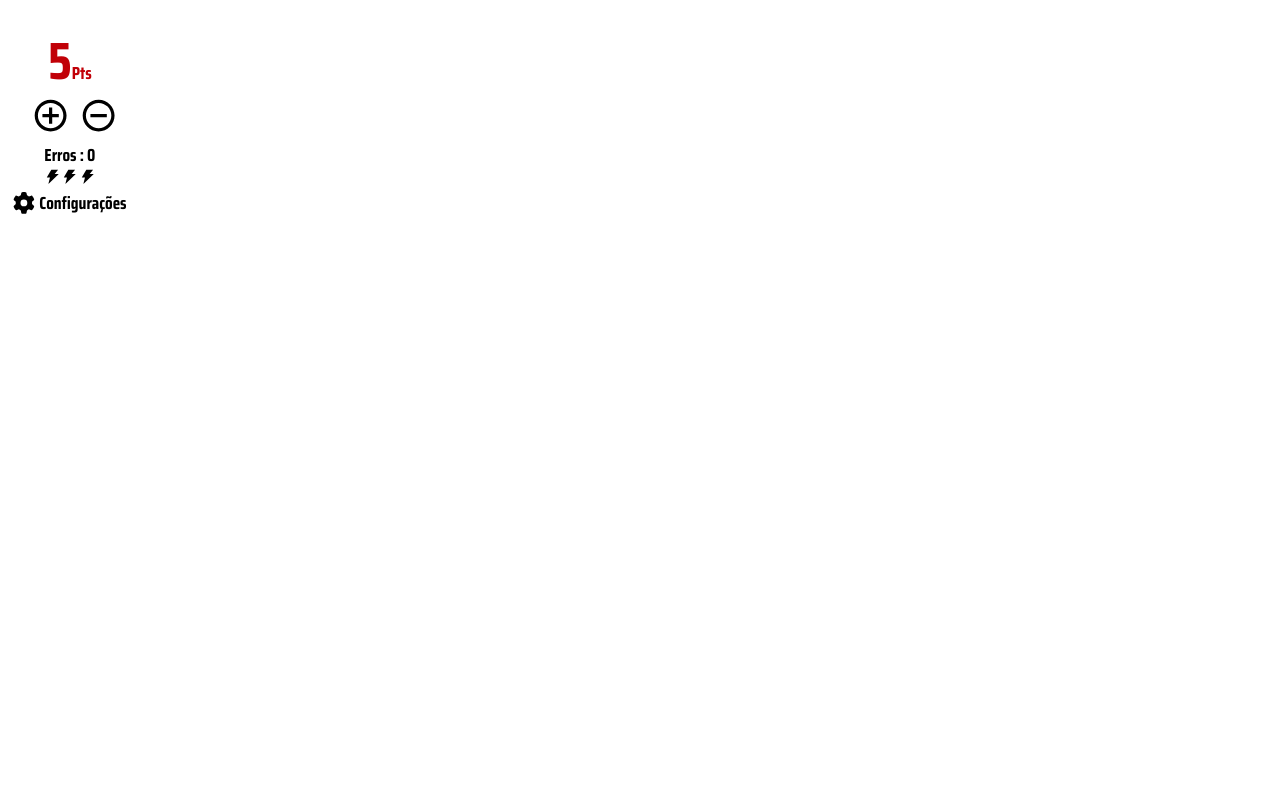
Test case: CountCard Config › deve exibir texto Ruim quando comportamento = 2
The image size is (1280, 800).
What coordinates should you click on to do the following:
click the text "Configurações"
I would click on:
 (70, 203)
Its box is [13,189,127,217].
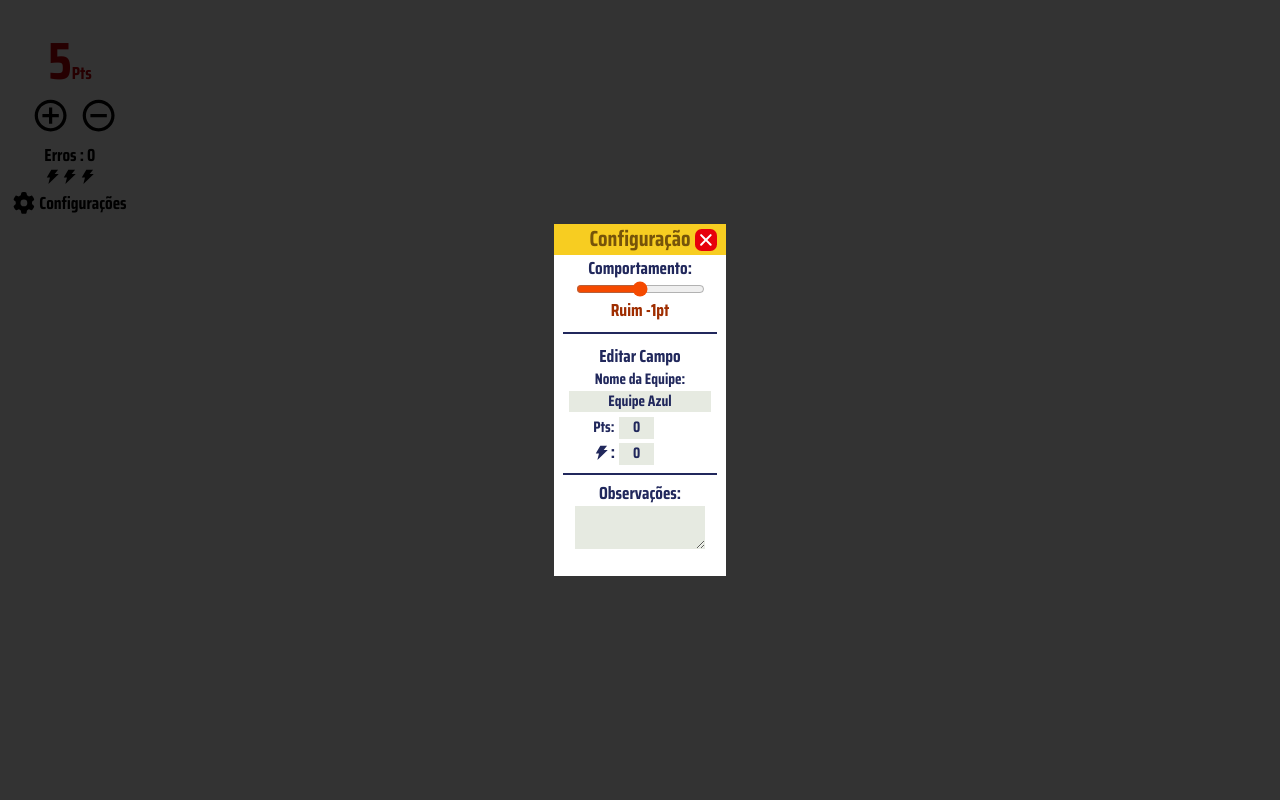
Result: the text "Ruim -1pt" is shown at [611,297,669,323]
